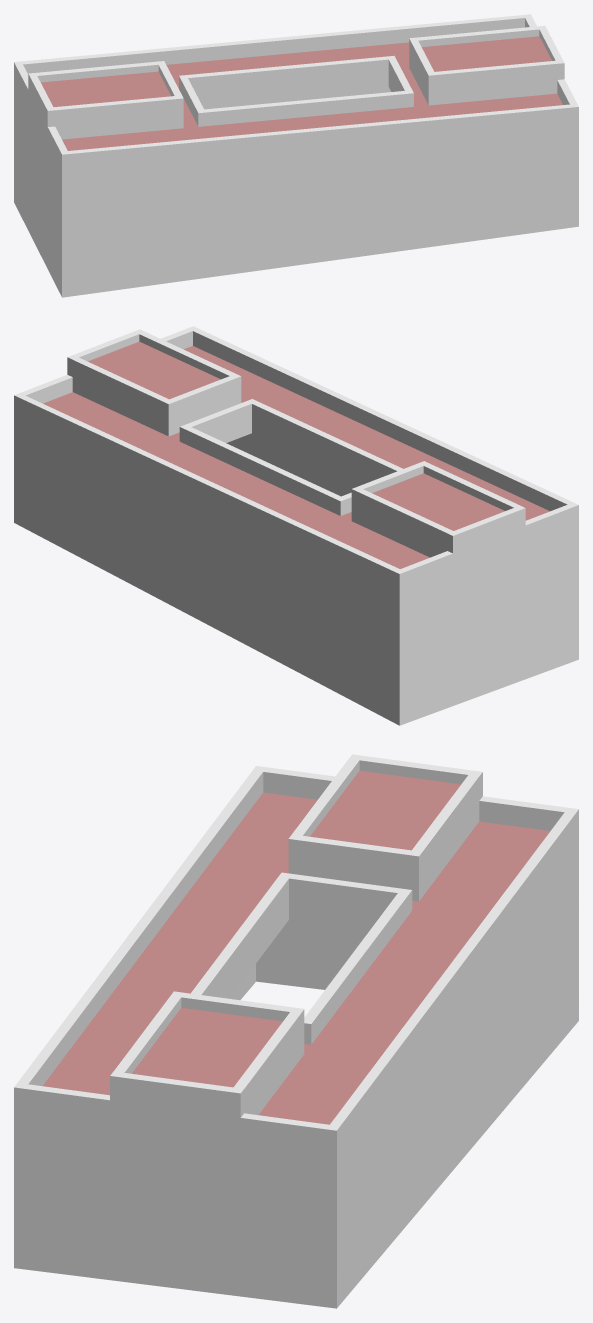
File: LOD_Block_4_17.glb
3 views of the same model, one above another, from view 1: azimuth 30°, elevation 25°; view 2: azimuth 150°, elevation 25°; view 3: azimuth 270°, elevation 25° (orthographic). The views are drawn at different scales.
Visible parts, largest first — view 1: mesh_CityEngineMaterial_255; view 2: mesh_CityEngineMaterial_255; view 3: mesh_CityEngineMaterial_255.
Boxes of the visible parts, <box> form: mesh_CityEngineMaterial_255: <box>14,14,578,297</box>; mesh_CityEngineMaterial_255: <box>14,326,578,725</box>; mesh_CityEngineMaterial_255: <box>14,754,578,1308</box>.
Bounding box in the file's own units: 37.94 × 11.64 × 24.83.
